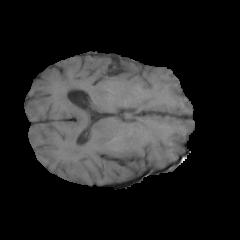glioma: (60, 58, 153, 119)
